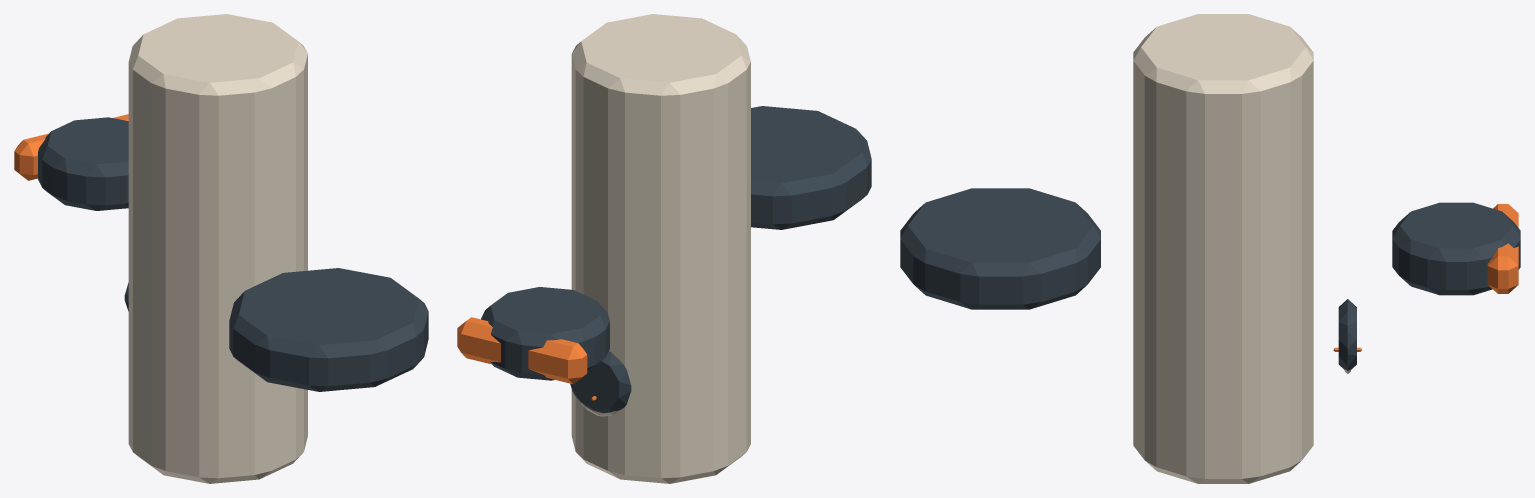
File: LP_OxygenTank_1m.fbx
3 renders of one model, left to right at view 1: azimuth 30°, elevation 25°; view 2: azimuth 150°, elevation 25°; view 3: azimuth 270°, elevation 25°, orthographic.
Parts seen in each view (by area): view 1: TankBody, TankBase, TankCap, TankValve; view 2: TankBody, TankBase, TankCap, TankValve, GaugeHousing; view 3: TankBody, TankBase, TankCap, TankValve, GaugeHousing.
Boxes of the visible parts, <box> form: TankBody: <box>128,14,307,483</box>; TankBase: <box>229,268,428,391</box>; TankCap: <box>38,117,128,210</box>; TankValve: <box>14,114,128,180</box>; TankBody: <box>571,14,750,483</box>; TankBase: <box>751,106,871,229</box>; TankCap: <box>481,287,609,380</box>; TankValve: <box>457,317,587,384</box>; GaugeHousing: <box>570,351,631,413</box>; TankBody: <box>1133,14,1313,483</box>; TankBase: <box>900,188,1100,309</box>; TankCap: <box>1392,202,1520,295</box>; TankValve: <box>1487,204,1518,293</box>; GaugeHousing: <box>1338,299,1356,370</box>.
Size of the model in its own units: 38.04 by 86 by 120.
